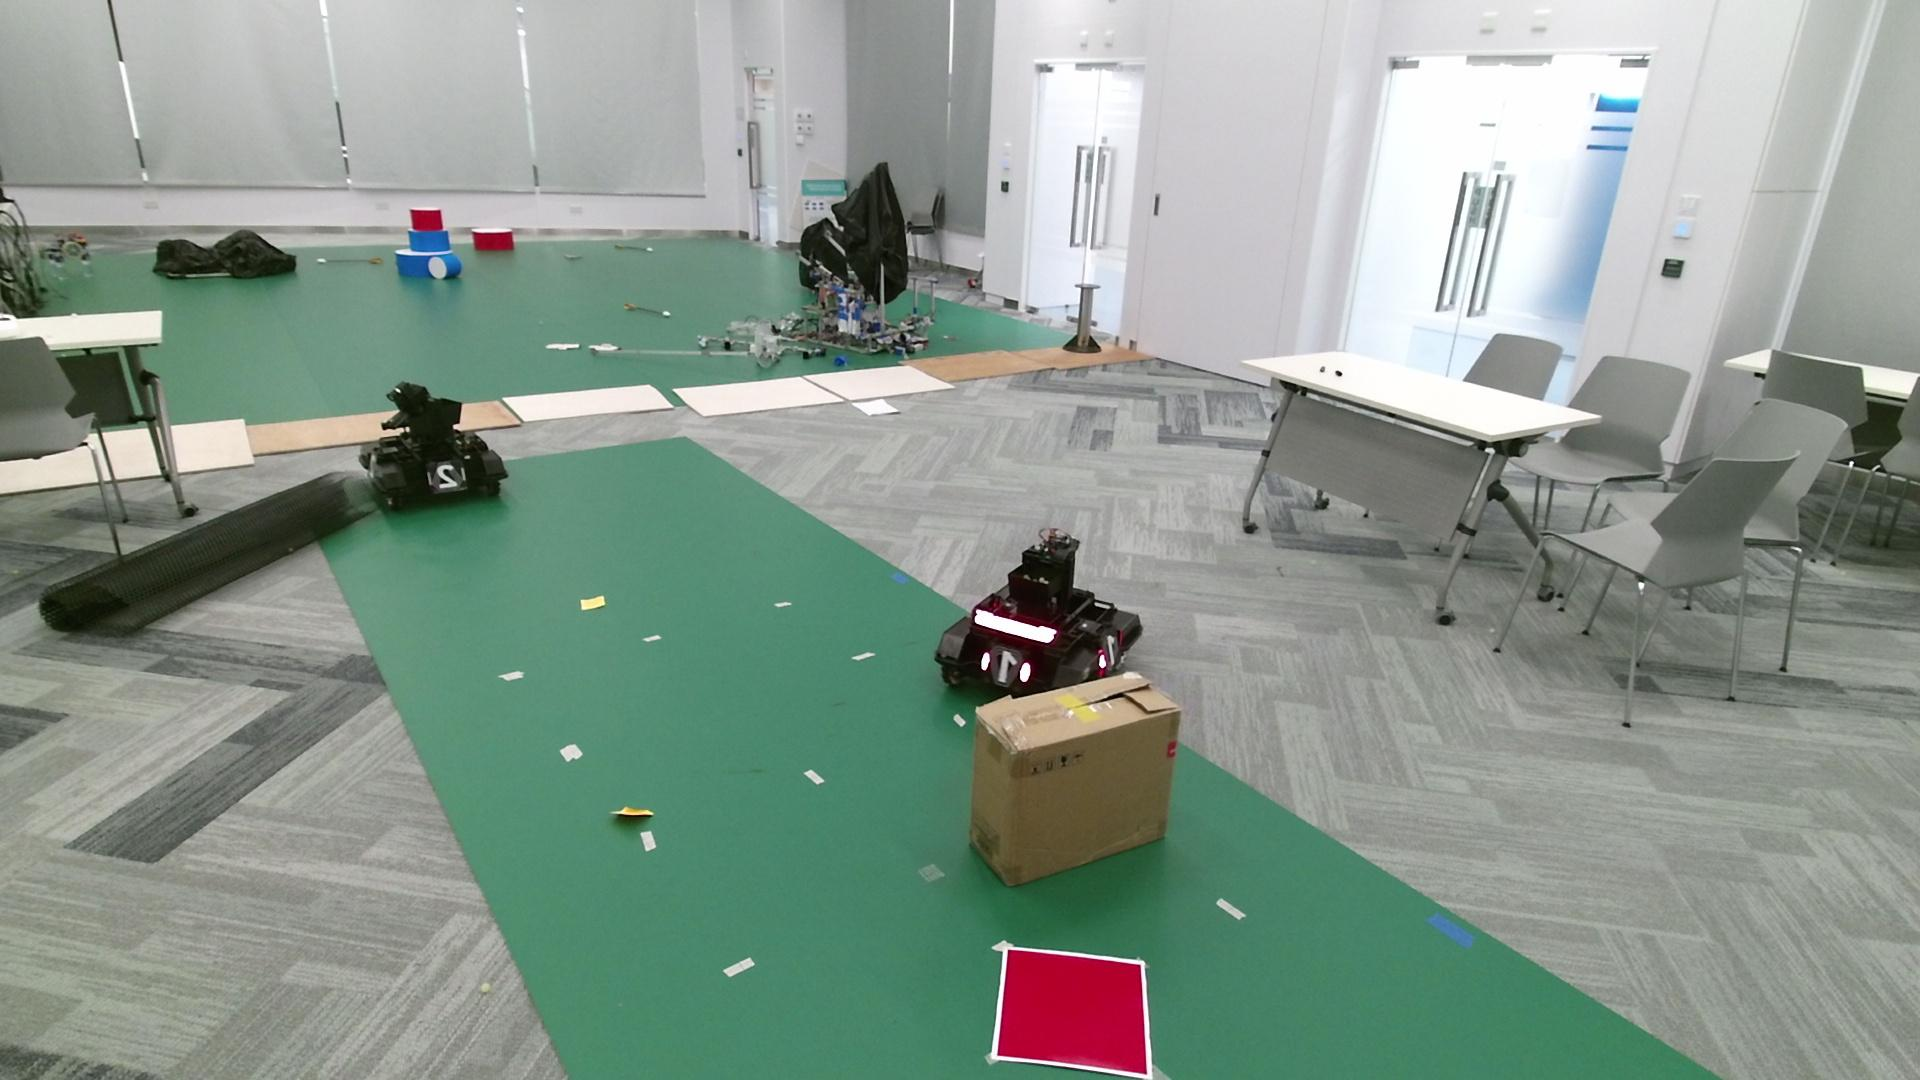robot: (936, 526, 1143, 702), (359, 381, 508, 512)
